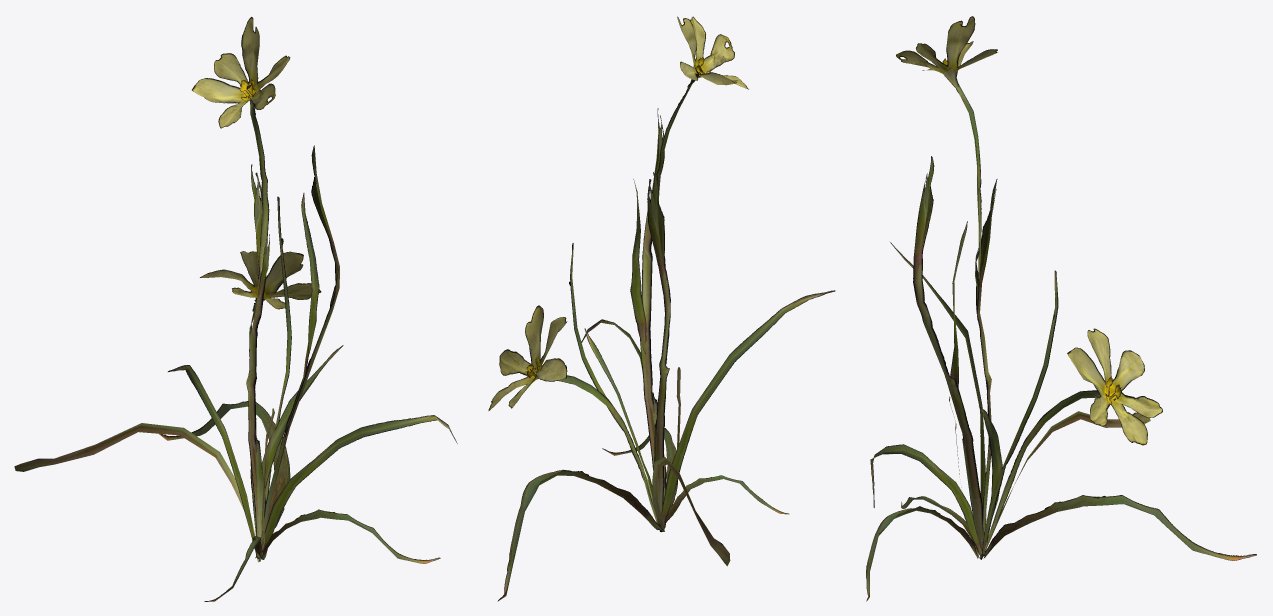
File: flower_empodium_a.fbx
The picture shows the model from 3 angles, left to right: view 1: azimuth 30°, elevation 25°; view 2: azimuth 150°, elevation 25°; view 3: azimuth 270°, elevation 25°; orthographic projection. The views are drawn at different scales.
Parts seen in each view (by area): view 1: flower_empodium_a; view 2: flower_empodium_a; view 3: flower_empodium_a.
Part boxes in pixels (left/top/right/bottom): flower_empodium_a: left=14, top=17, right=457, bottom=601; flower_empodium_a: left=488, top=16, right=835, bottom=601; flower_empodium_a: left=866, top=16, right=1256, bottom=601.
Bounding box in the file's own units: 0.2174 × 0.38 × 0.2508.
Materials: 1 (1 with a texture image).
